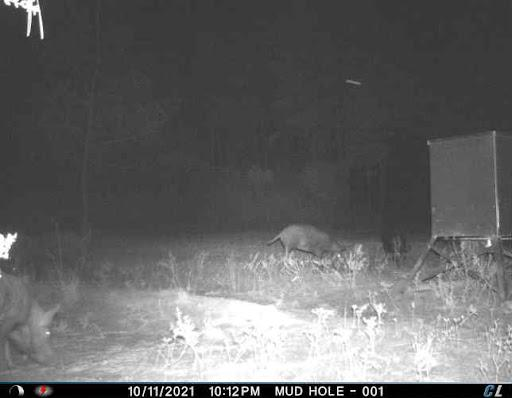Hog: (0, 263, 56, 381), (269, 212, 347, 268), (378, 221, 414, 276)
